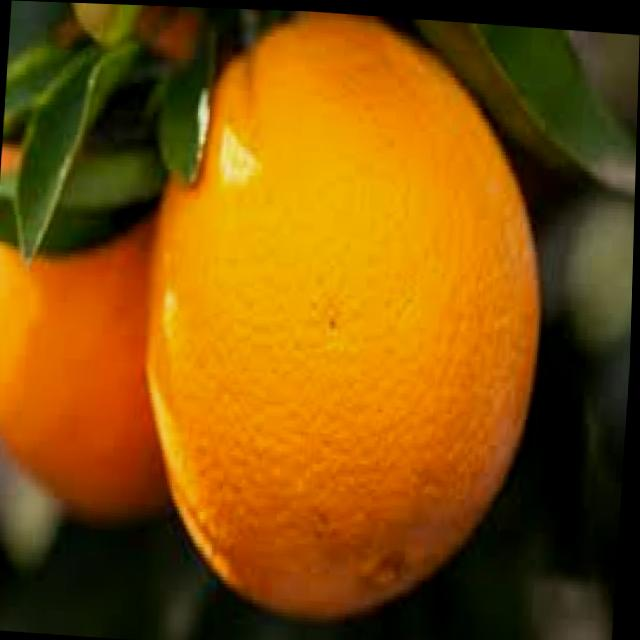orange: (133, 4, 557, 636), (0, 121, 196, 532)
